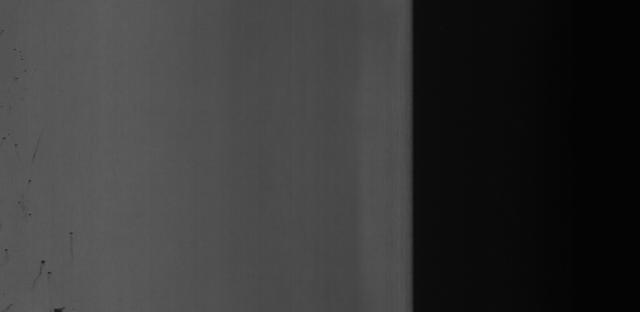inclusion: (12, 178, 39, 217), (32, 258, 60, 281)
